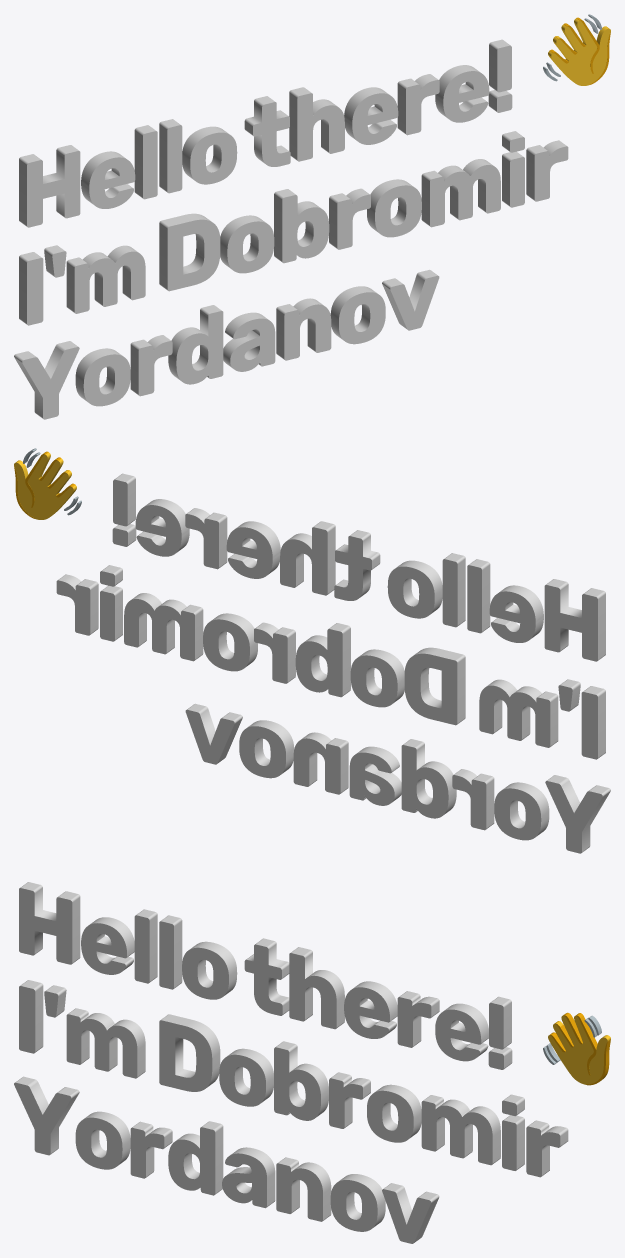
File: hero.glb
3 views of the same model, one above another, from view 1: azimuth 30°, elevation 25°; view 2: azimuth 150°, elevation 25°; view 3: azimuth 330°, elevation 25° (orthographic).
Parts seen in each view (by area): view 1: Text part 015, Text part 022, Text part 017, Text part 000, Text part 029, Text part 019, Hand, Text part 007, Text part 031, Text part 030, Text part 026, Text part 027 (+19 smaller); view 2: Text part 015, Text part 022, Text part 017, Text part 000, Text part 029, Text part 019, Hand, Text part 007, Text part 031, Text part 030, Text part 026, Text part 027 (+19 smaller); view 3: Text part 015, Text part 022, Text part 017, Text part 000, Hand, Text part 019, Text part 029, Text part 007, Text part 031, Text part 026, Text part 030, Text part 027 (+19 smaller).
Part boxes in pixels (bbox=[...]): Text part 015: bbox=[66, 245, 145, 313]; Text part 022: bbox=[421, 159, 500, 227]; Text part 017: bbox=[159, 213, 220, 291]; Text part 000: bbox=[19, 145, 80, 227]; Text part 029: bbox=[168, 305, 223, 384]; Text part 019: bbox=[274, 189, 329, 263]; Hand: bbox=[543, 14, 610, 85]; Text part 007: bbox=[289, 87, 344, 161]; Text part 031: bbox=[276, 298, 331, 360]; Text part 030: bbox=[223, 312, 275, 371]; Text part 026: bbox=[14, 341, 79, 419]; Text part 027: bbox=[75, 348, 130, 406]; Text part 015: bbox=[479, 679, 558, 747]; Text part 022: bbox=[124, 593, 203, 661]; Text part 017: bbox=[404, 647, 465, 725]; Text part 000: bbox=[544, 579, 605, 661]; Text part 029: bbox=[401, 739, 456, 818]; Text part 019: bbox=[295, 623, 350, 697]; Hand: bbox=[14, 448, 81, 519]; Text part 007: bbox=[280, 521, 335, 595]; Text part 031: bbox=[293, 732, 348, 794]; Text part 030: bbox=[349, 746, 401, 805]; Text part 026: bbox=[545, 775, 610, 853]; Text part 027: bbox=[494, 782, 549, 840]; Text part 015: bbox=[66, 1008, 145, 1078]; Text part 022: bbox=[421, 1095, 500, 1165]; Text part 017: bbox=[159, 1014, 220, 1091]; Text part 000: bbox=[19, 882, 80, 964]; Hand: bbox=[543, 1012, 610, 1085]; Text part 019: bbox=[274, 1041, 328, 1120]; Text part 029: bbox=[168, 1121, 223, 1195]; Text part 007: bbox=[289, 947, 344, 1029]; Text part 031: bbox=[276, 1157, 331, 1221]; Text part 026: bbox=[14, 1076, 79, 1155]; Text part 030: bbox=[222, 1147, 275, 1208]; Text part 027: bbox=[75, 1111, 130, 1169].
Size of the model in its own units: 4.17 by 1.8 by 0.1.
